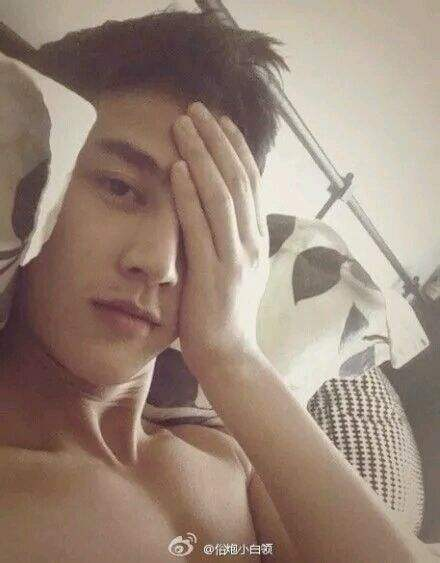person: (17, 24, 327, 551)
